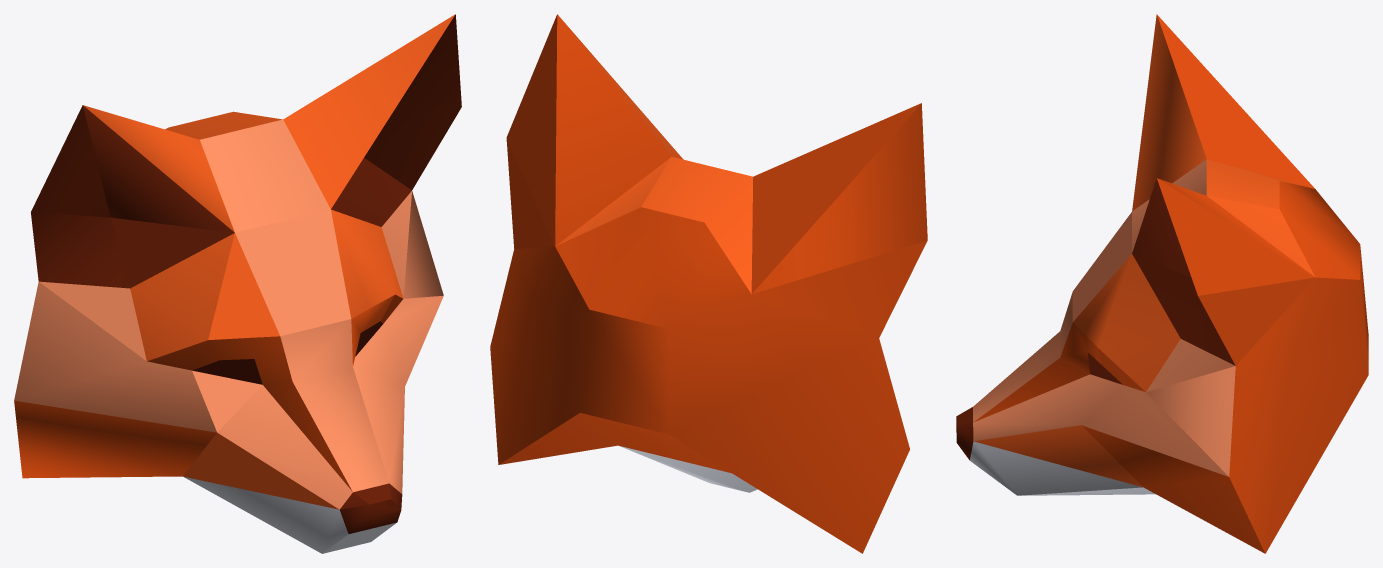
Rendered from fox2.obj.
The picture shows the model from 3 angles, left to right: view 1: azimuth 30°, elevation 25°; view 2: azimuth 150°, elevation 25°; view 3: azimuth 270°, elevation 25°; orthographic projection. The views are drawn at different scales.
Bounding box in the file's own units: 22.17 × 21.23 × 20.39.
